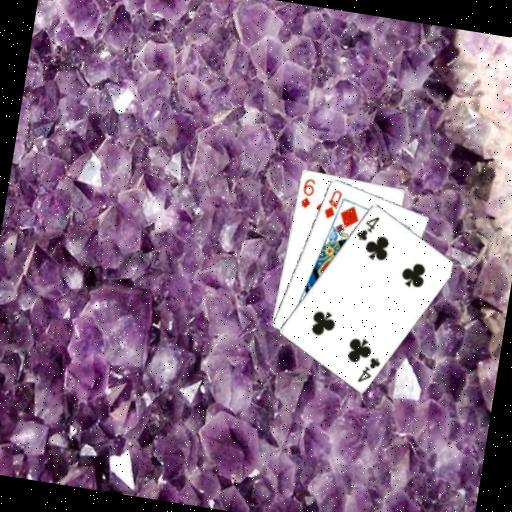4C: (354, 352, 382, 386), (353, 211, 381, 244)
6D: (296, 174, 317, 210)
QD: (319, 184, 344, 221)
